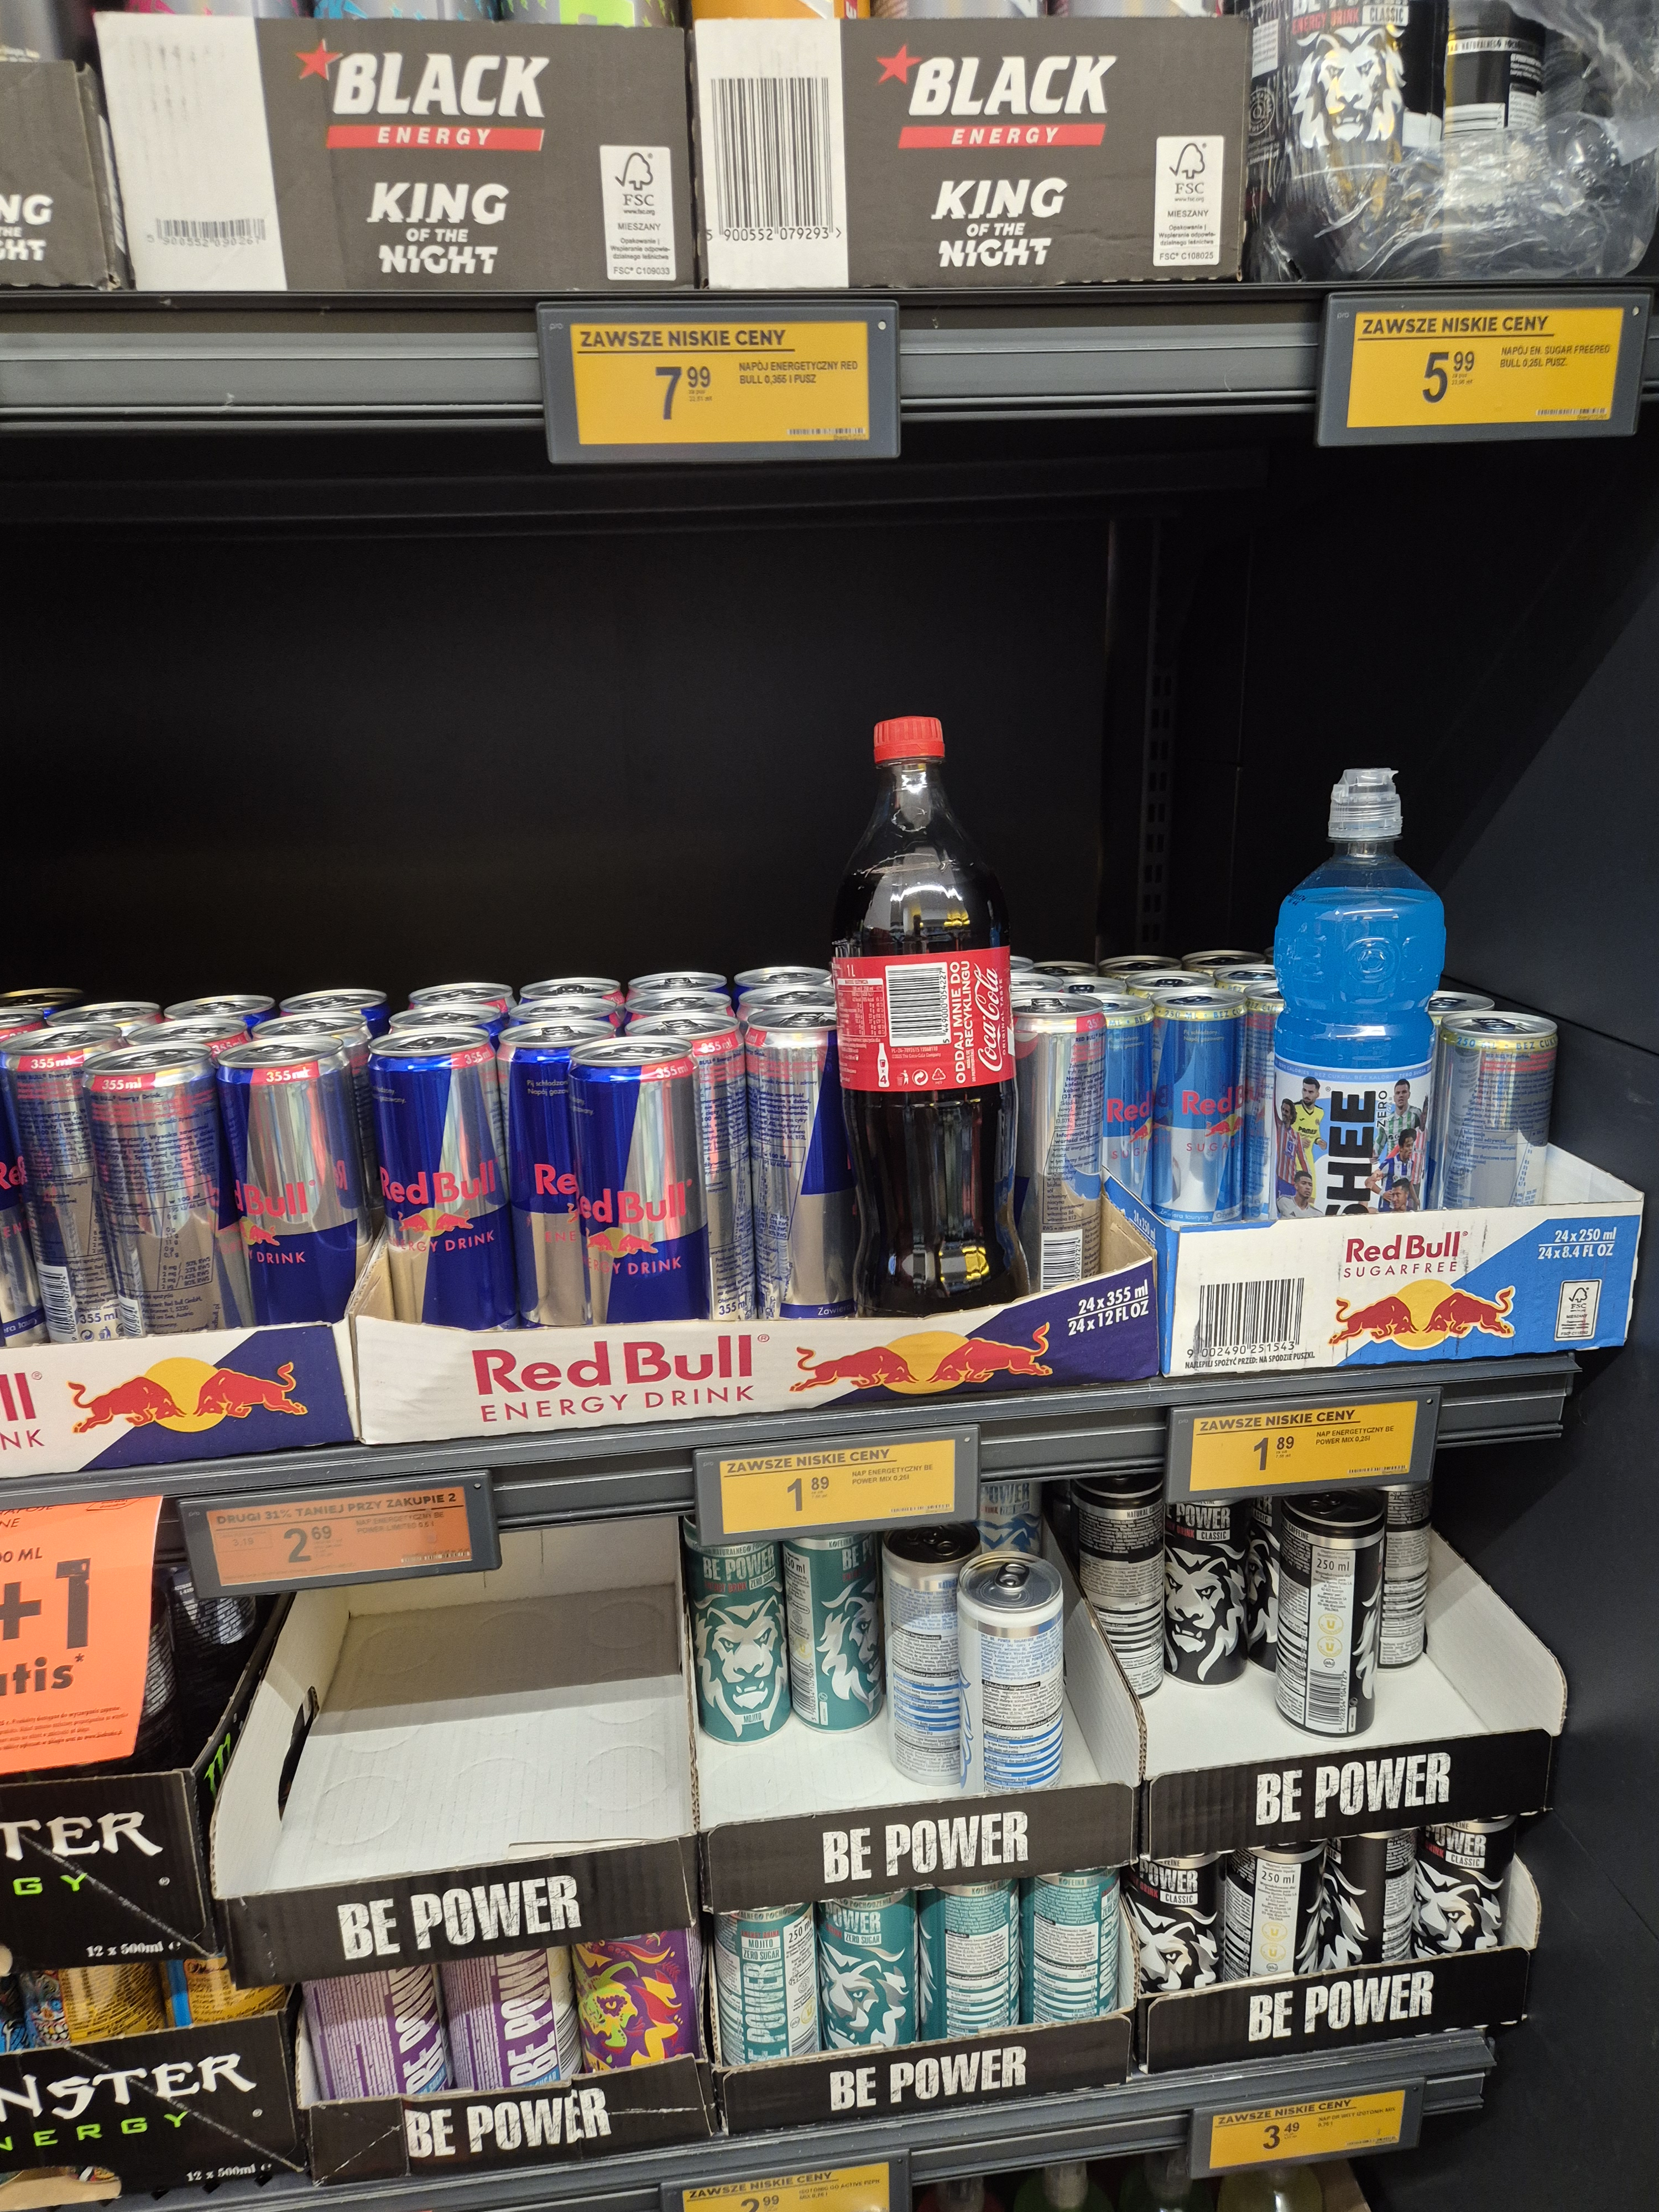Coca Cola: (816, 711, 1054, 1310)
